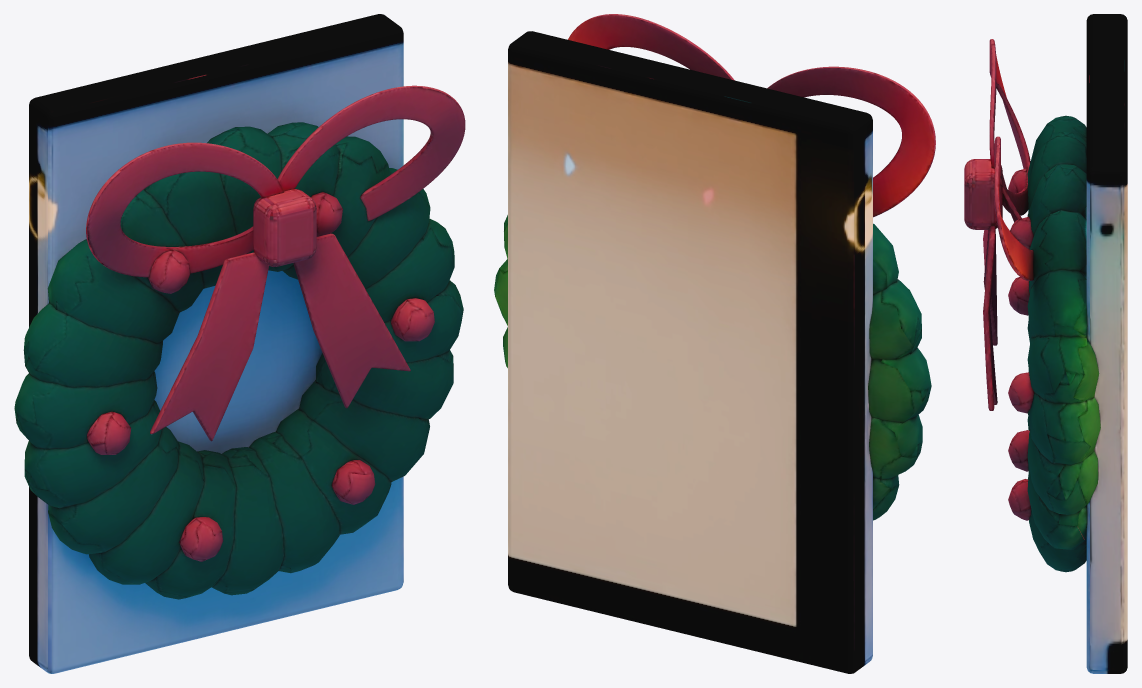
Rendered from winter-wreath.glb.
3 renders of one model, left to right at view 1: azimuth 30°, elevation 25°; view 2: azimuth 150°, elevation 25°; view 3: azimuth 270°, elevation 25°, orthographic. The views are drawn at different scales.
Visible parts, largest first — view 1: Baked_wreath; view 2: Baked_wreath; view 3: Baked_wreath.
Boxes of the visible parts, left/top/right/bottom form: Baked_wreath: left=14, top=14, right=465, bottom=673; Baked_wreath: left=494, top=14, right=935, bottom=673; Baked_wreath: left=964, top=14, right=1127, bottom=673.
Size of the model in its own units: 0.78 by 0.95 by 0.2775.
1 material, 1 textured.
